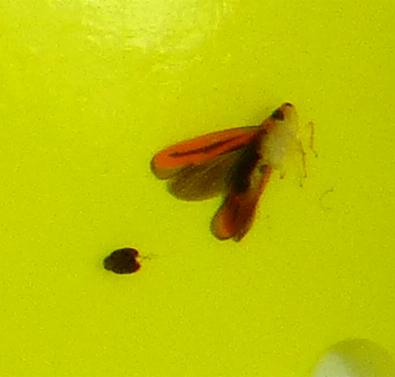Coleoptera: (100, 245, 142, 277)
Hemiptera: (148, 100, 295, 243)
